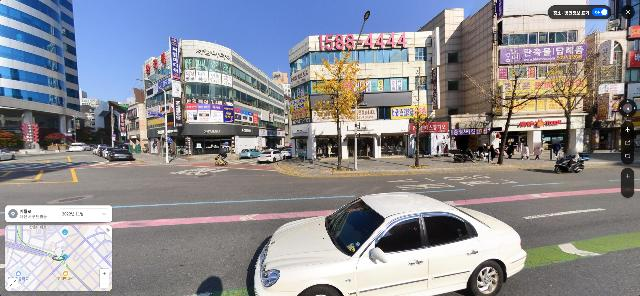ginkgo: (460, 40, 611, 165), (316, 52, 366, 170), (407, 59, 436, 166)
other: (1, 125, 26, 149), (44, 131, 69, 148)
